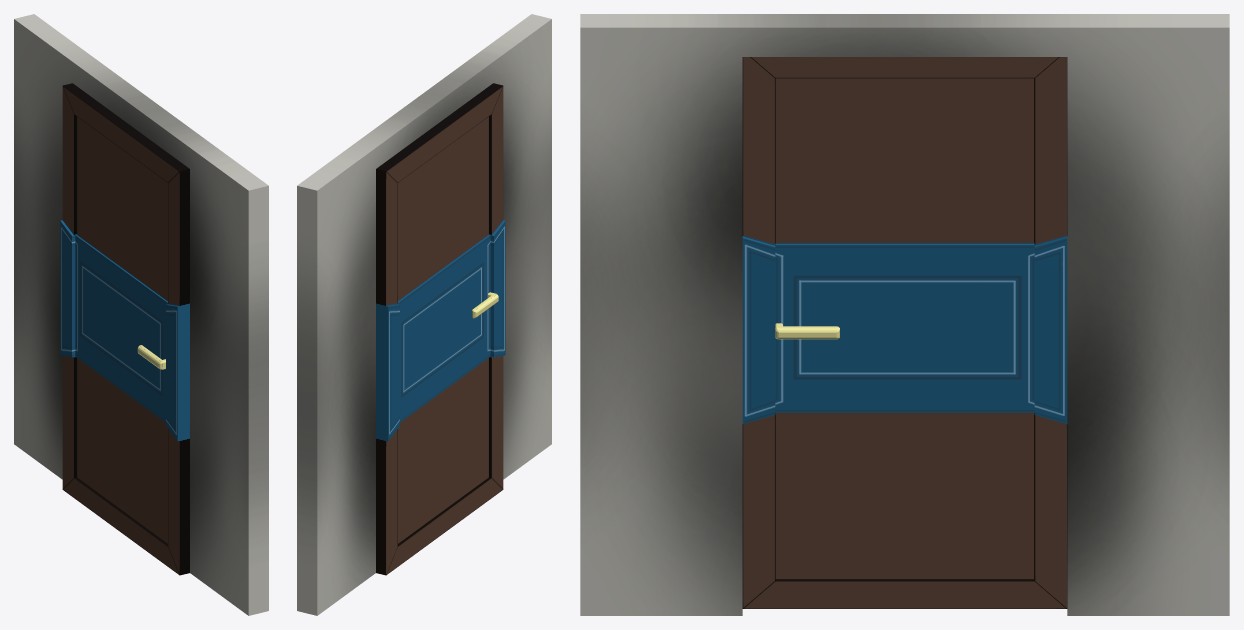
Rendered from wall_with_door.fbx.
3 views of the same model, side by side, from view 1: azimuth 30°, elevation 25°; view 2: azimuth 150°, elevation 25°; view 3: azimuth 270°, elevation 25° (orthographic). The views are drawn at different scales.
Visible parts, largest first — view 1: wall, door; view 2: wall, door; view 3: wall, door.
Part boxes in pixels (x1,y1,x2,y2): wall: (14,14,268,615); door: (60,83,189,575); wall: (297,14,551,615); door: (376,83,505,575); wall: (580,14,1229,615); door: (742,57,1067,608).
Bounding box in the file's own units: 18.98 × 200 × 200.
2 materials, 2 textured.
